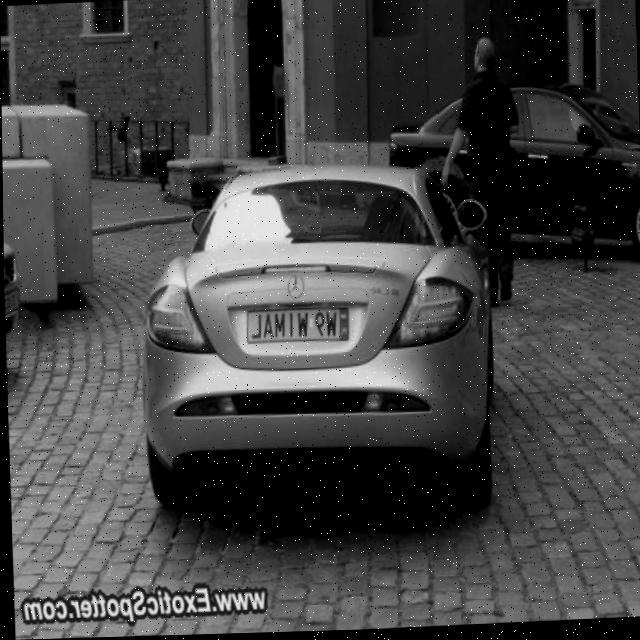license-plates: (246, 308, 346, 343)
